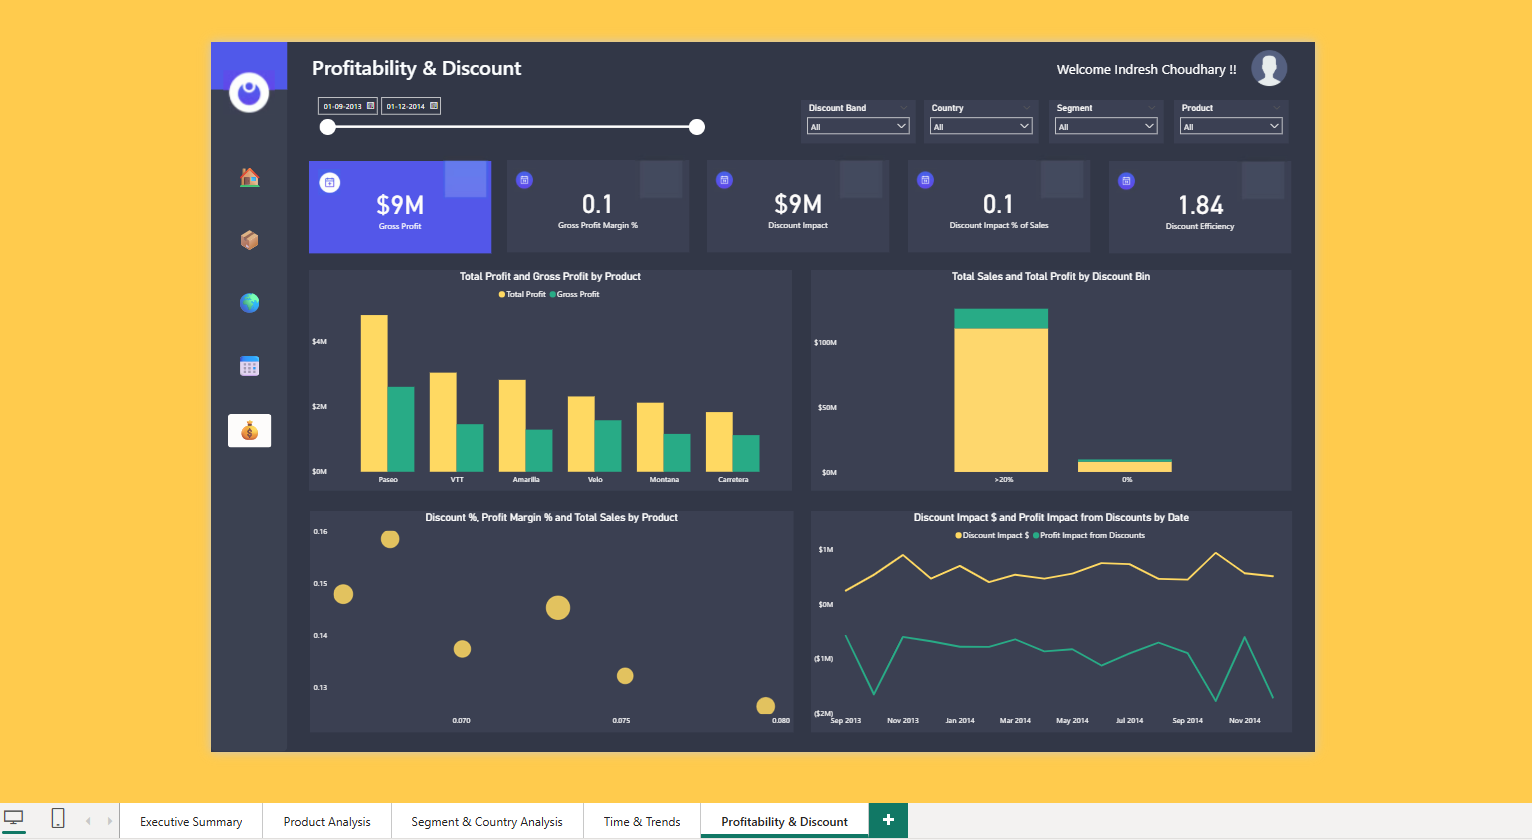

Layout of this report page (visuals, bound fields, positions):
{"tool":"powerbi","page":{"name":"Profitability & Discount","canvas":[1780,1145],"ordinal":4},"visuals":[{"type":"shape","box":[0,51.7,123.3,1093.3],"z":0},{"type":"slicer","fields":{"Values":["Product.Product"]},"box":[1553.4,93.9,185,70],"z":0,"group":"g7"},{"type":"card","fields":{"Values":["All Measures.Discount Impact $"]},"box":[800.4,190.8,293.9,149.1],"z":0,"group":"g3"},{"type":"card","fields":{"Values":["All Measures.Discount Impact % of Sales"]},"box":[1124.8,190.9,293.9,149.1],"z":0,"group":"g4"},{"type":"card","fields":{"Values":["All Measures.Gross Profit"]},"box":[158.1,191.4,293.9,149.1],"z":0,"group":"g1"},{"type":"card","fields":{"Values":["All Measures.Gross Profit Margin %"]},"box":[477,191.4,293.9,149.1],"z":0,"group":"g2"},{"type":"card","fields":{"Values":["All Measures.Discount Efficiency"]},"box":[1448.3,192.3,293.9,149.1],"z":0,"group":"g5"},{"type":"shape","box":[0,0,123.3,76.7],"z":1000},{"type":"slicer","fields":{"Values":["Segment.Segment"]},"box":[1351.7,93.9,185,70],"z":1000,"group":"g7"},{"type":"image","box":[368.7,159.1,83.4,118.8],"z":1000,"group":"g1"},{"type":"image","box":[1002.6,174.1,91.7,86.5],"z":1000,"group":"g3"},{"type":"image","box":[1327,174.2,91.7,86.5],"z":1000,"group":"g4"},{"type":"image","box":[679.2,174.7,91.7,86.5],"z":1000,"group":"g2"},{"type":"image","box":[1650.5,175.6,91.7,86.5],"z":1000,"group":"g5"},{"type":"textbox","box":[158.3,13.3,370,68.3],"z":2000},{"type":"slicer","fields":{"Values":["Country.Country"]},"box":[1150,93.9,185,70],"z":2000,"group":"g7"},{"type":"image","box":[800.4,198.1,57.3,47.9],"z":2000,"group":"g3"},{"type":"image","box":[1124.8,198.2,57.3,47.9],"z":2000,"group":"g4"},{"type":"image","box":[167.5,198.7,45.9,52.1],"z":2000,"group":"g1"},{"type":"image","box":[477,198.7,57.3,47.9],"z":2000,"group":"g2"},{"type":"image","box":[1448.3,199.6,57.3,47.9],"z":2000,"group":"g5"},{"type":"image","box":[1671.3,8.8,71.7,68.3],"z":3000,"group":"g6"},{"type":"image","box":[13.3,40,96.7,81.7],"z":3000},{"type":"slicer","fields":{"Values":["Discount Band.Discount Band"]},"box":[951.7,93.9,185,70],"z":3000,"group":"g7"},{"type":"shape","box":[1345.2,20.9,328.3,46.7],"z":4000,"group":"g6"},{"type":"group","id":"g1","title":"Group 1","box":[158.1,159.1,293.9,181.4],"z":4000},{"type":"shape","box":[26.7,190,70,54],"z":5000},{"type":"group","id":"g2","title":"Group 2","box":[477,174.7,293.9,165.7],"z":6000},{"type":"group","id":"g3","title":"Group 2","box":[800.4,174.1,293.9,165.7],"z":7000},{"type":"shape","box":[26.7,292.8,70,54],"z":8000},{"type":"group","id":"g4","title":"Group 2","box":[1124.8,174.2,294.4,166.1],"z":9000},{"type":"shape","box":[26.7,395,70,54],"z":10000},{"type":"group","id":"g5","title":"Group 2","box":[1448.3,175.6,294.6,165.6],"z":11000},{"type":"group","id":"g6","title":"Group 3","box":[1345.2,8.8,397.8,68.3],"z":12000},{"type":"shape","box":[26.7,497.2,70,54],"z":13000},{"type":"shape","box":[26.7,599.4,70,54],"z":14000},{"type":"clusteredColumnChart","fields":{"Category":["Product.Product"],"Y":["All Measures.Total Profit","All Measures.Gross Profit"]},"box":[158.6,368.5,778.8,355.8],"z":15000},{"type":"columnChart","fields":{"Y":["All Measures.Total Sales","All Measures.Total Profit"],"Category":["financials.Discount Bin"]},"box":[968.2,368.5,774.6,355.8],"z":16000},{"type":"lineChart","fields":{"Category":["Calendar.Date"],"Y":["All Measures.Discount Impact $","All Measures.Profit Impact from Discounts"]},"box":[968.3,756.9,775.9,356.5],"z":17000},{"type":"scatterChart","fields":{"Category":["Product.Product"],"X":["All Measures.Discount %"],"Y":["All Measures.Profit Margin %"],"Size":["All Measures.Total Sales"]},"box":[159.2,756.9,779.6,356.5],"z":18000},{"type":"group","id":"g7","title":"Group 5","box":[951.7,93.9,786.7,70],"z":19000},{"type":"slicer","fields":{"Values":["Calendar.Date"]},"box":[160,78.3,645,96.7],"z":20000}]}

Visuals, with their boxes on the page's 1780x1145 design canvas (x1, y1, x2, y2). These are canvas units, not pixel positions in the 1532x840 screenshot, which may show the page scaled, cropped or inside an application window:
shape: 0/52/123/1145
slicer - Product.Product: 1553/94/1738/164
card - All Measures.Discount Impact $: 800/191/1094/340
card - All Measures.Discount Impact % of Sales: 1125/191/1419/340
card - All Measures.Gross Profit: 158/191/452/340
card - All Measures.Gross Profit Margin %: 477/191/771/340
card - All Measures.Discount Efficiency: 1448/192/1742/341
shape: 0/0/123/77
slicer - Segment.Segment: 1352/94/1537/164
image: 369/159/452/278
image: 1003/174/1094/261
image: 1327/174/1419/261
image: 679/175/771/261
image: 1650/176/1742/262
textbox: 158/13/528/82
slicer - Country.Country: 1150/94/1335/164
image: 800/198/858/246
image: 1125/198/1182/246
image: 168/199/213/251
image: 477/199/534/247
image: 1448/200/1506/248
image: 1671/9/1743/77
image: 13/40/110/122
slicer - Discount Band.Discount Band: 952/94/1137/164
shape: 1345/21/1674/68
"Group 1" group: 158/159/452/340
shape: 27/190/97/244
"Group 2" group: 477/175/771/340
"Group 2" group: 800/174/1094/340
shape: 27/293/97/347
"Group 2" group: 1125/174/1419/340
shape: 27/395/97/449
"Group 2" group: 1448/176/1743/341
"Group 3" group: 1345/9/1743/77
shape: 27/497/97/551
shape: 27/599/97/653
clusteredColumnChart - Product.Product x All Measures.Total Profit: 159/368/937/724
columnChart - All Measures.Total Sales x All Measures.Total Profit: 968/368/1743/724
lineChart - Calendar.Date x All Measures.Discount Impact $: 968/757/1744/1113
scatterChart - Product.Product x All Measures.Discount %: 159/757/939/1113
"Group 5" group: 952/94/1738/164
slicer - Calendar.Date: 160/78/805/175
